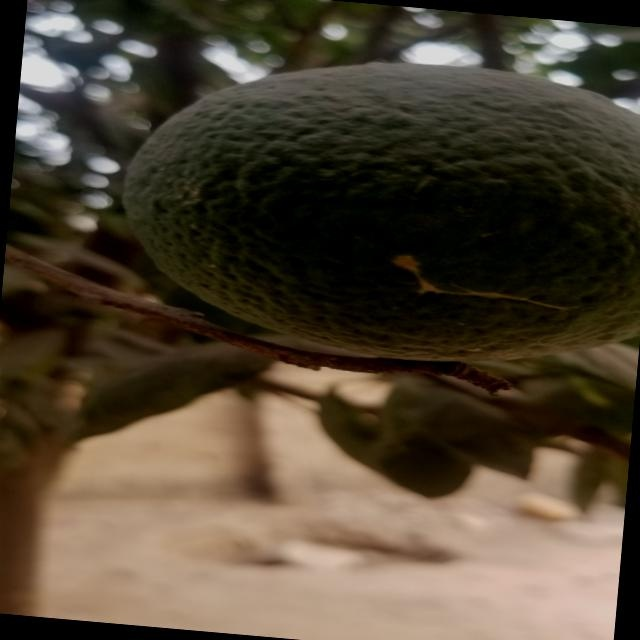agrume: (109, 40, 640, 377)
